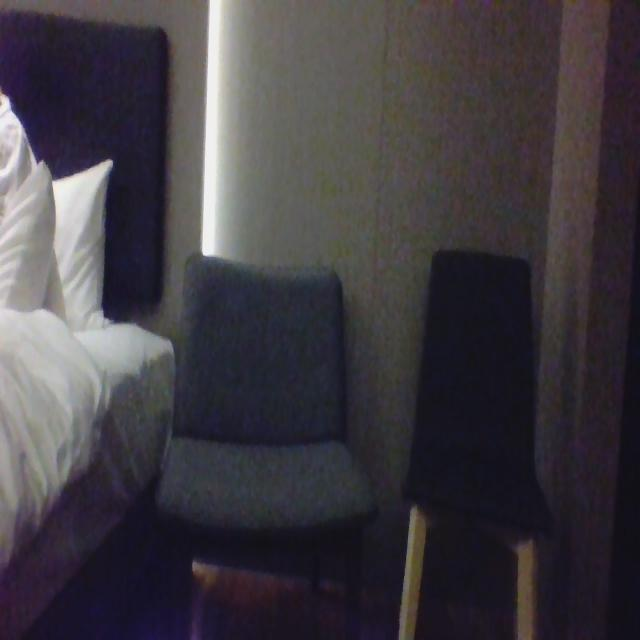empty: (175, 260, 363, 514), (425, 237, 532, 523)
